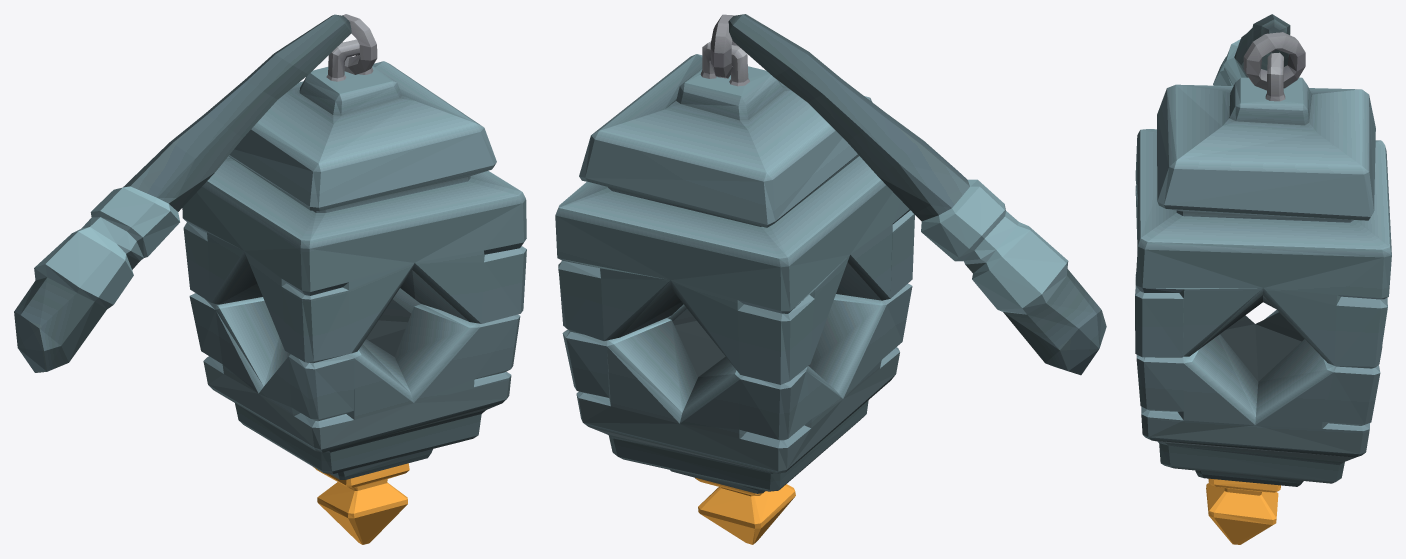
Rendered from CharSkyKid_Prop_Lantern.glb.
The picture shows the model from 3 angles, left to right: view 1: azimuth 30°, elevation 25°; view 2: azimuth 150°, elevation 25°; view 3: azimuth 270°, elevation 25°; orthographic projection. The views are drawn at different scales.
Visible parts, largest first — view 1: CharSkyKid_Prop_Lantern; view 2: CharSkyKid_Prop_Lantern; view 3: CharSkyKid_Prop_Lantern.
Part boxes in pixels (<box>): CharSkyKid_Prop_Lantern: <box>14,14,526,544</box>; CharSkyKid_Prop_Lantern: <box>555,14,1106,544</box>; CharSkyKid_Prop_Lantern: <box>1135,14,1391,544</box>.
Size of the model in its own units: 4.33 by 4.71 by 2.11.
1 material, 1 textured.
